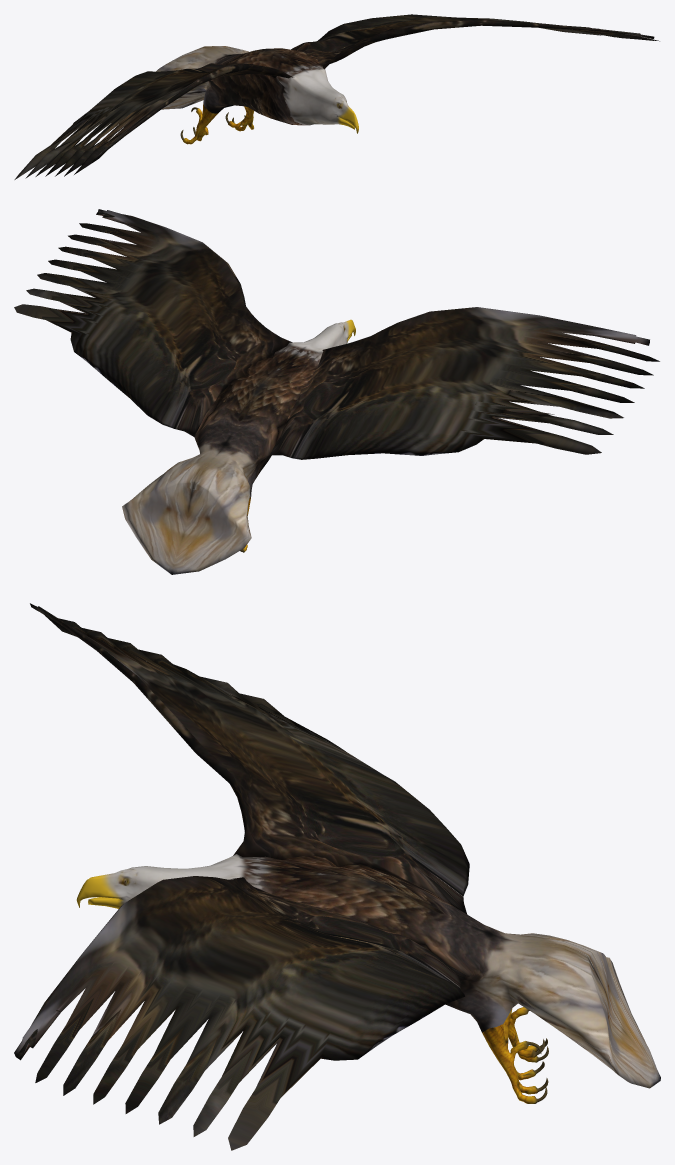
The model's file is Eagle-original_000032.obj.
3 views of the same model, one above another, from view 1: azimuth 30°, elevation 25°; view 2: azimuth 150°, elevation 25°; view 3: azimuth 270°, elevation 25° (orthographic). The views are drawn at different scales.
Visible parts, largest first — view 1: Flugel_Plane.003; view 2: Flugel_Plane.003; view 3: Flugel_Plane.003.
Boxes of the visible parts, x1,y1,x2,y2 form: Flugel_Plane.003: (14,14,659,179); Flugel_Plane.003: (14,209,659,574); Flugel_Plane.003: (14,603,660,1150).
Bounding box in the file's own units: 10.73 × 3.18 × 6.34.
Materials: 1 (1 with a texture image).
